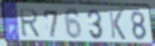3: (87, 9, 104, 41)
6: (63, 7, 84, 42)
7: (42, 9, 60, 39)
8: (130, 10, 148, 41)
K: (108, 9, 127, 41)
R: (18, 8, 42, 39)
